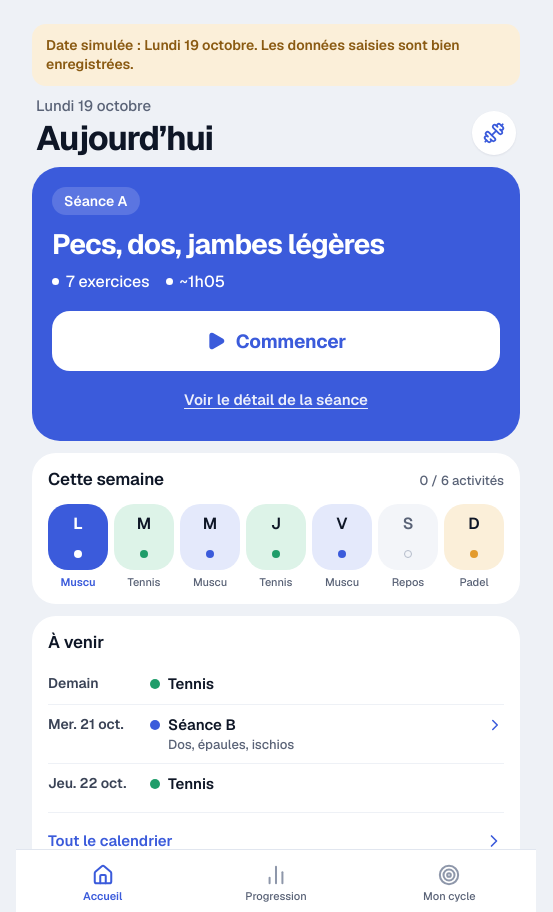
Test: App › déplie une semaine du calendrier pour voir chaque jour
Click the button "Tout le calendrier": click(110, 841) [48,812,504,856]
(page scrolled)
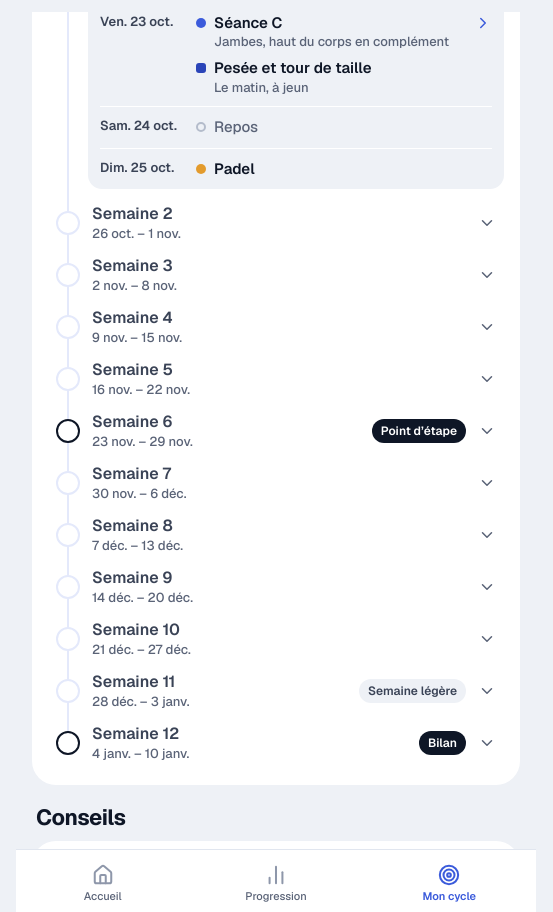
Click the button "Semaine 6 23 nov. – 29 nov. Point d’étape": click(132, 421) [48,405,504,457]
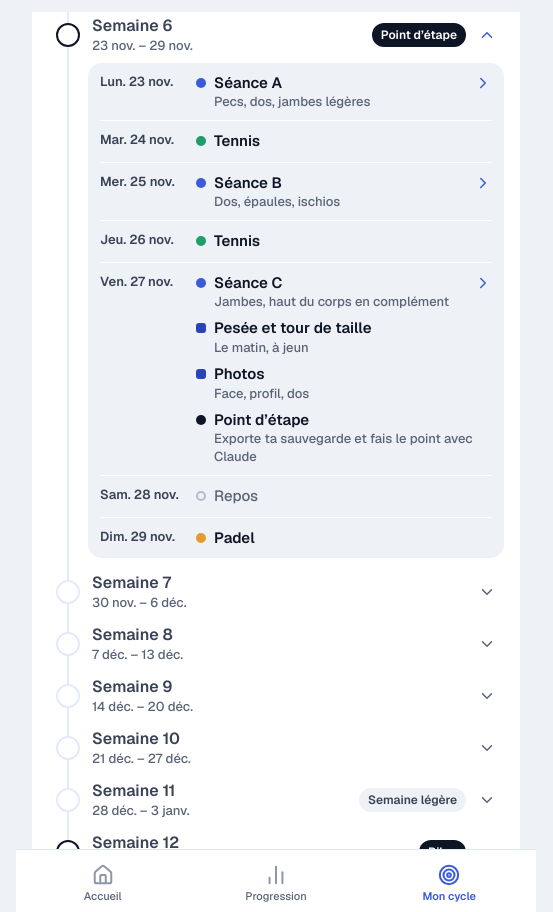
Now the text "Point d’étape" below "Face, profil, dos" is shown, box [214,410,309,429]
